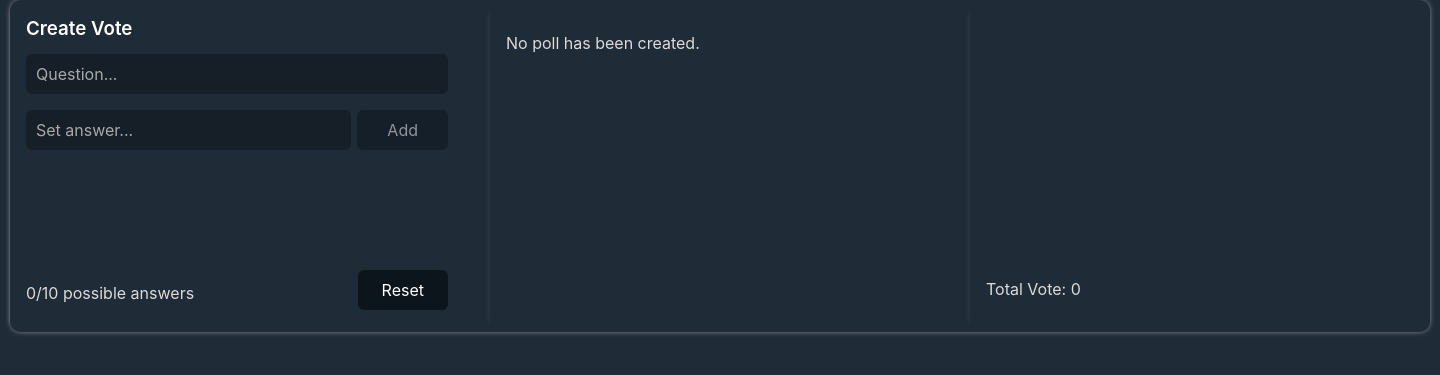
Test case: Intractions › Check if vote flow is working
The image size is (1440, 375).
# add question title
Type "What is your favorite color?" into the field with test id "question-title" at (237, 74), box [26,54,448,94]
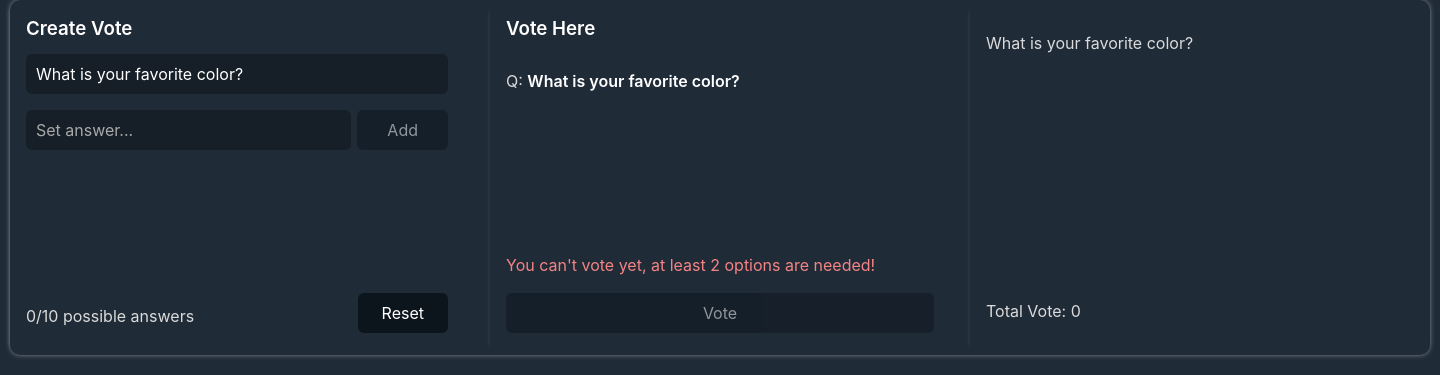
Expected: the element with test id "question" reads "Q: What is your favorite color?", [506,71,740,91]
# add first option
Type "Red" into the field with test id "add-option-input" at (189, 130), box [26,110,351,150]
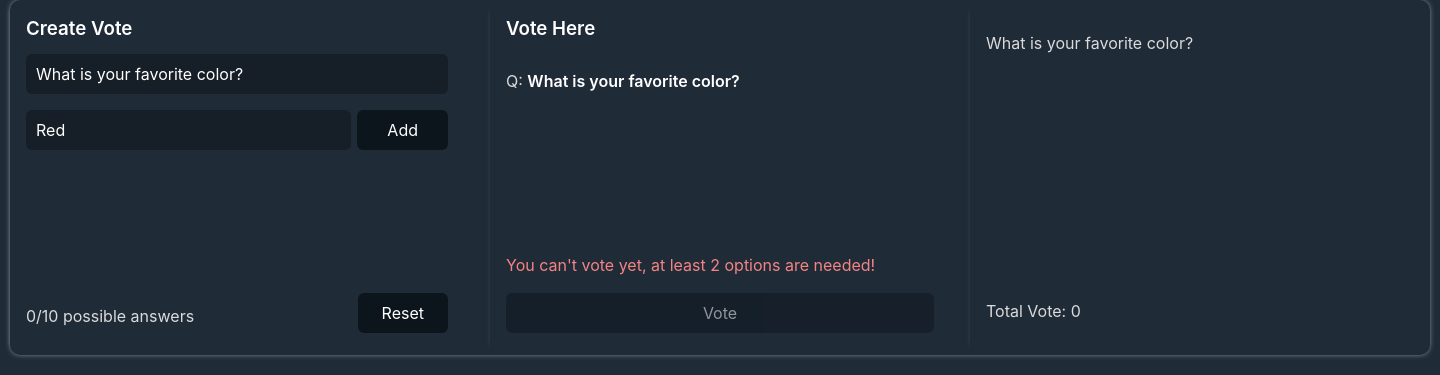
Submit the form with test id "add-option-form", box [26,110,454,156]
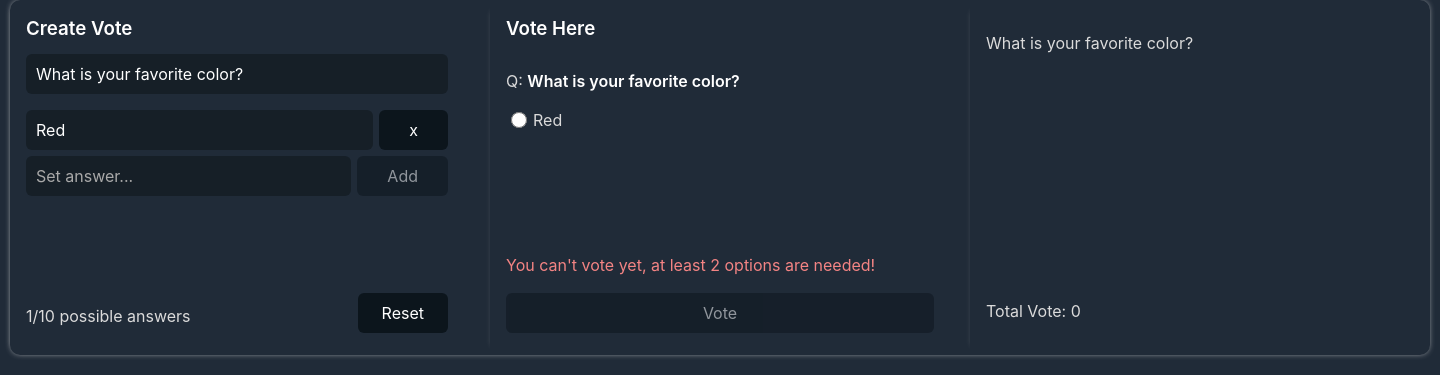
Expected: the text "You can't vote yet, at least 2 options are needed!" is shown, [506,254,934,277]
# add second option
Type "Blue" into the field with test id "add-option-input" at (189, 176), box [26,156,351,196]
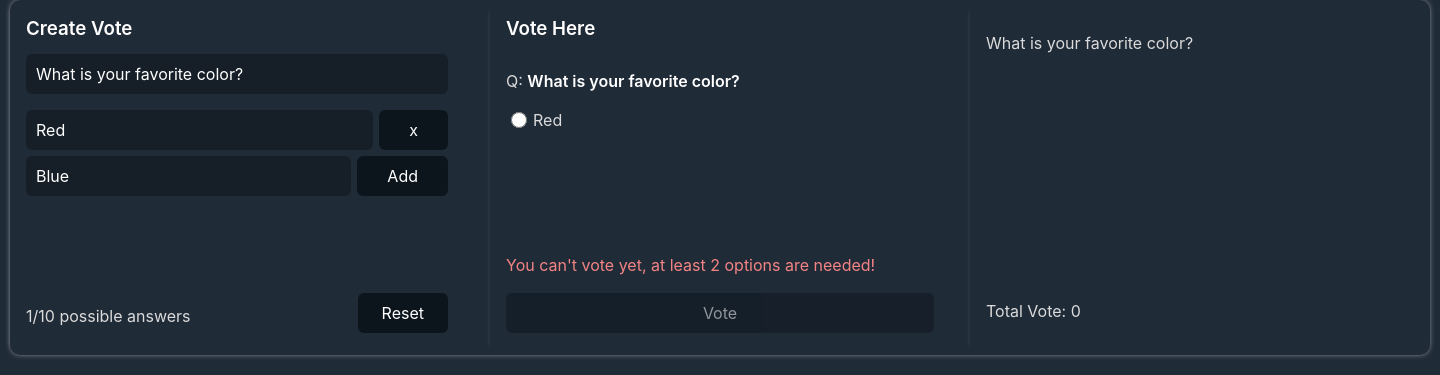
Submit the form with test id "add-option-form", box [26,156,454,202]
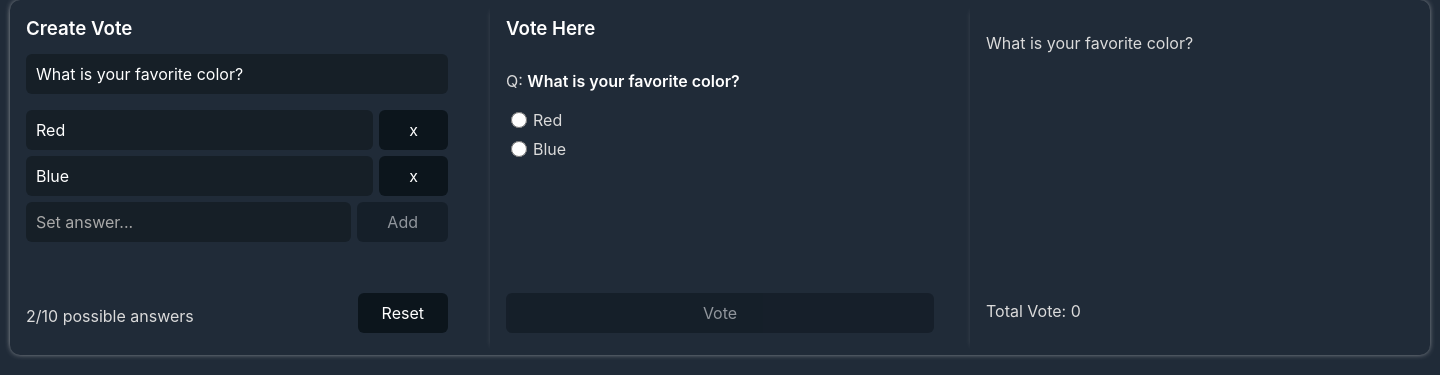
Expected: the text "2/10 possible answers" is shown, [26,305,194,327]
# select first option using role radio
Click the radio button labelled "Red" at (519, 120), box [511,112,527,128]
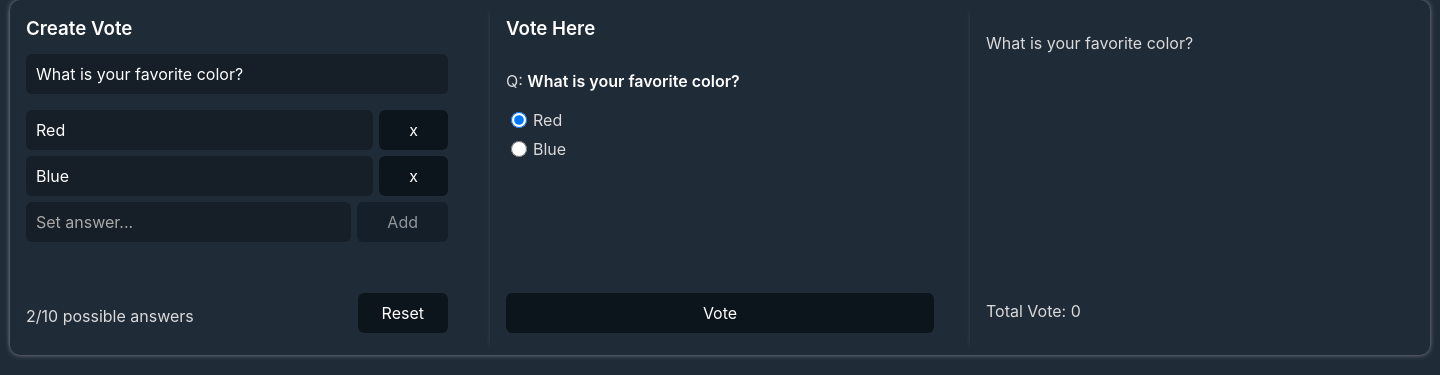
Expected: the button with test id "submit-vote" showing "Vote" is enabled, [506,293,934,333]
